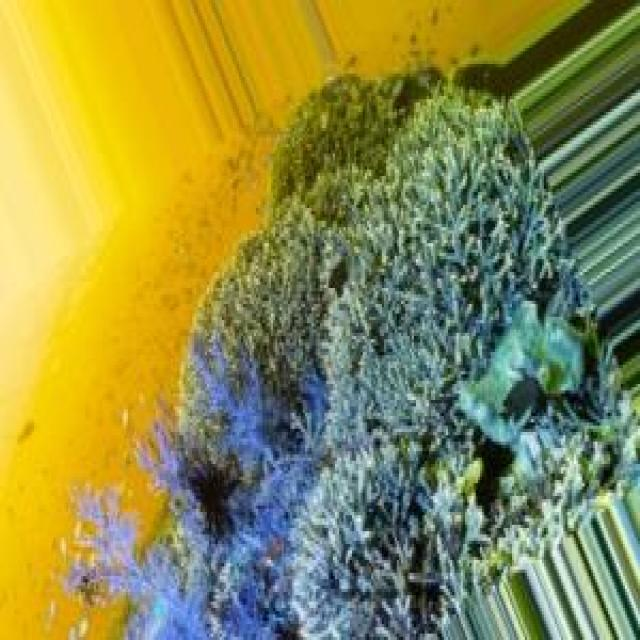Healthy: (338, 110, 603, 471), (261, 75, 534, 238), (293, 404, 475, 640), (182, 231, 349, 455), (71, 427, 210, 609)
